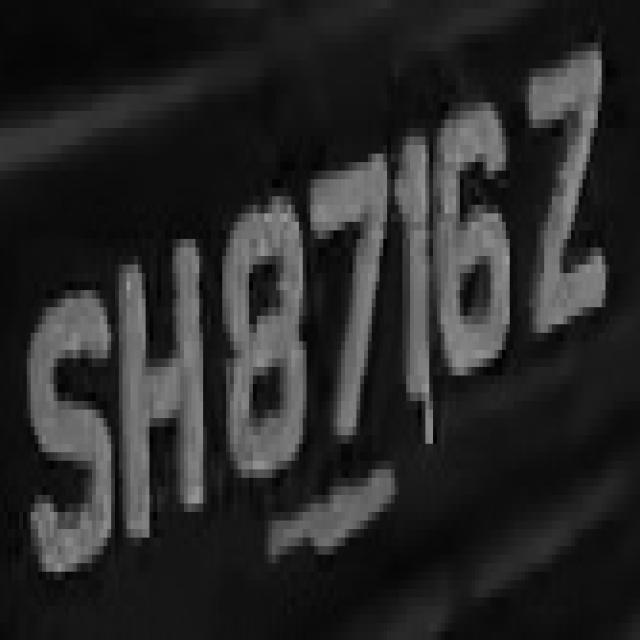1: (406, 94, 441, 444)
6: (433, 102, 514, 384)
7: (302, 145, 394, 486)
8: (207, 188, 318, 495)
H: (115, 214, 215, 580)
S: (12, 265, 122, 580)
Z: (517, 43, 617, 358)
